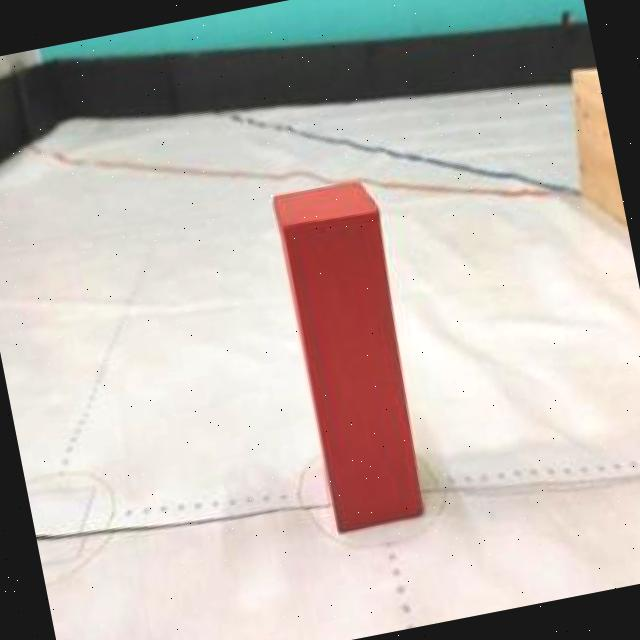redbox: (276, 180, 431, 532)
